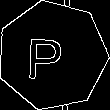P_N: (33, 29, 72, 82)
